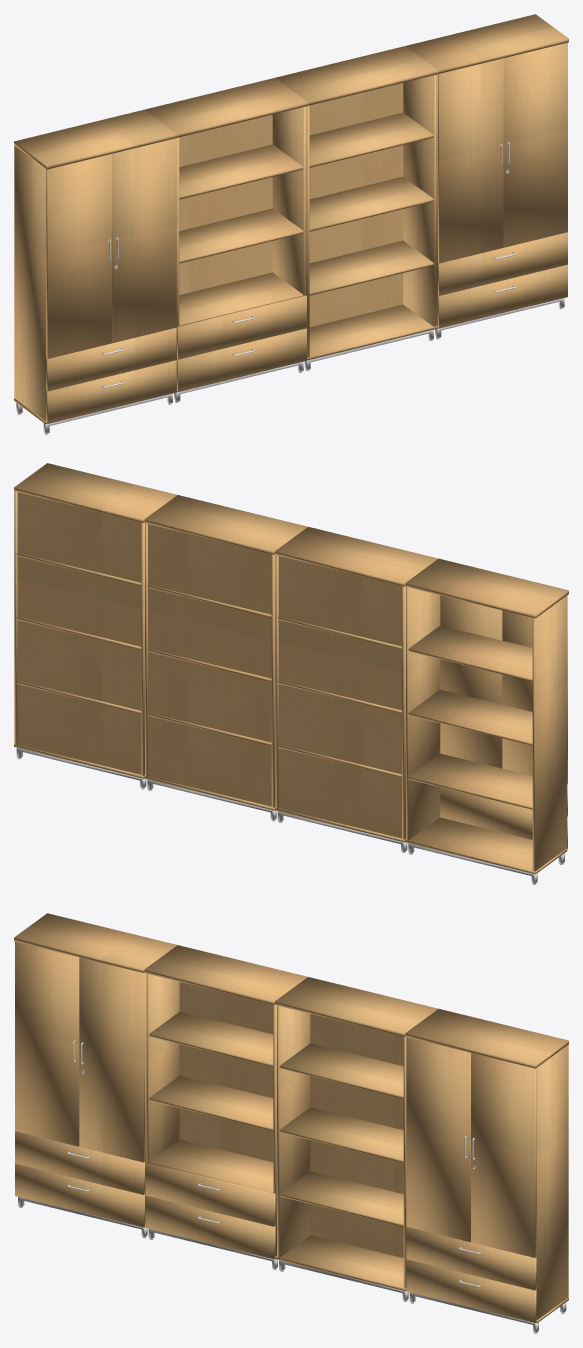
3 renders of one model, top to bottom at view 1: azimuth 30°, elevation 25°; view 2: azimuth 150°, elevation 25°; view 3: azimuth 330°, elevation 25°, orthographic.
Visible parts, largest first — view 1: CANH, CANH02, Layer:Layer05, Layer:Layer03, Box705, Box02, MNK02, MNK01, MNK04, THANH, THANH02, THANH01 (+4 smaller); view 2: Box706, Box705, Box02, Layer:Layer2, THANH, CANH, Layer:Layer05, Layer:Layer07, Layer:Layer03, MNK01, THANH02, THANH01 (+5 smaller); view 3: CANH02, CANH, Layer:Layer05, Layer:Layer03, Box705, Box02, MNK02, MNK04, MNK01, THANH03, THANH02, THANH01 (+4 smaller).
Boxes of the visible parts, bbox=[...] form: CANH: bbox=[46, 138, 176, 358]; CANH02: bbox=[438, 42, 567, 263]; Layer:Layer05: bbox=[275, 46, 438, 360]; Layer:Layer03: bbox=[144, 78, 307, 391]; Box705: bbox=[309, 83, 403, 326]; Box02: bbox=[179, 114, 272, 294]; MNK02: bbox=[177, 295, 306, 391]; MNK01: bbox=[46, 328, 176, 423]; MNK04: bbox=[438, 232, 567, 328]; THANH: bbox=[14, 146, 46, 420]; THANH02: bbox=[306, 75, 436, 357]; THANH01: bbox=[176, 106, 305, 389]; Box706: bbox=[17, 492, 141, 774]; Box705: bbox=[148, 524, 271, 806]; Box02: bbox=[278, 556, 401, 838]; Layer:Layer2: bbox=[405, 558, 568, 874]; THANH: bbox=[406, 587, 566, 871]; CANH: bbox=[440, 595, 567, 784]; Layer:Layer05: bbox=[144, 495, 307, 810]; Layer:Layer07: bbox=[14, 463, 177, 778]; Layer:Layer03: bbox=[275, 527, 438, 842]; MNK01: bbox=[440, 784, 567, 848]; THANH02: bbox=[145, 523, 275, 807]; THANH01: bbox=[275, 555, 405, 839]; CANH02: bbox=[406, 1037, 536, 1257]; CANH: bbox=[15, 941, 144, 1162]; Layer:Layer05: bbox=[275, 977, 437, 1290]; Layer:Layer03: bbox=[144, 945, 307, 1259]; Box705: bbox=[310, 1013, 403, 1257]; Box02: bbox=[179, 982, 273, 1162]; MNK02: bbox=[145, 1162, 275, 1259]; MNK04: bbox=[406, 1227, 536, 1322]; MNK01: bbox=[15, 1131, 144, 1227]; THANH03: bbox=[536, 1045, 568, 1319]; THANH02: bbox=[277, 1005, 406, 1288]; THANH01: bbox=[146, 974, 276, 1256].
Size of the model in its own units: 3.61 by 1.8 by 0.423.
Materials: 2 (1 with a texture image).
